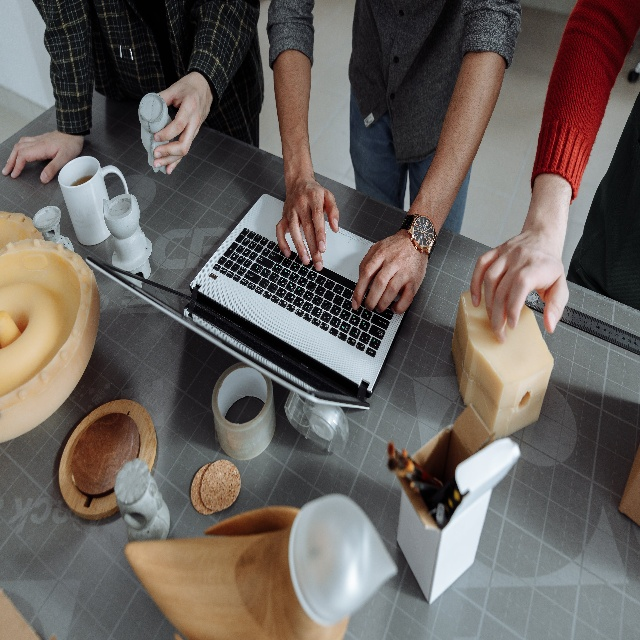Sin_guantes: (471, 227, 569, 344), (351, 230, 428, 314), (152, 70, 213, 175), (275, 174, 339, 272), (2, 128, 84, 184)
